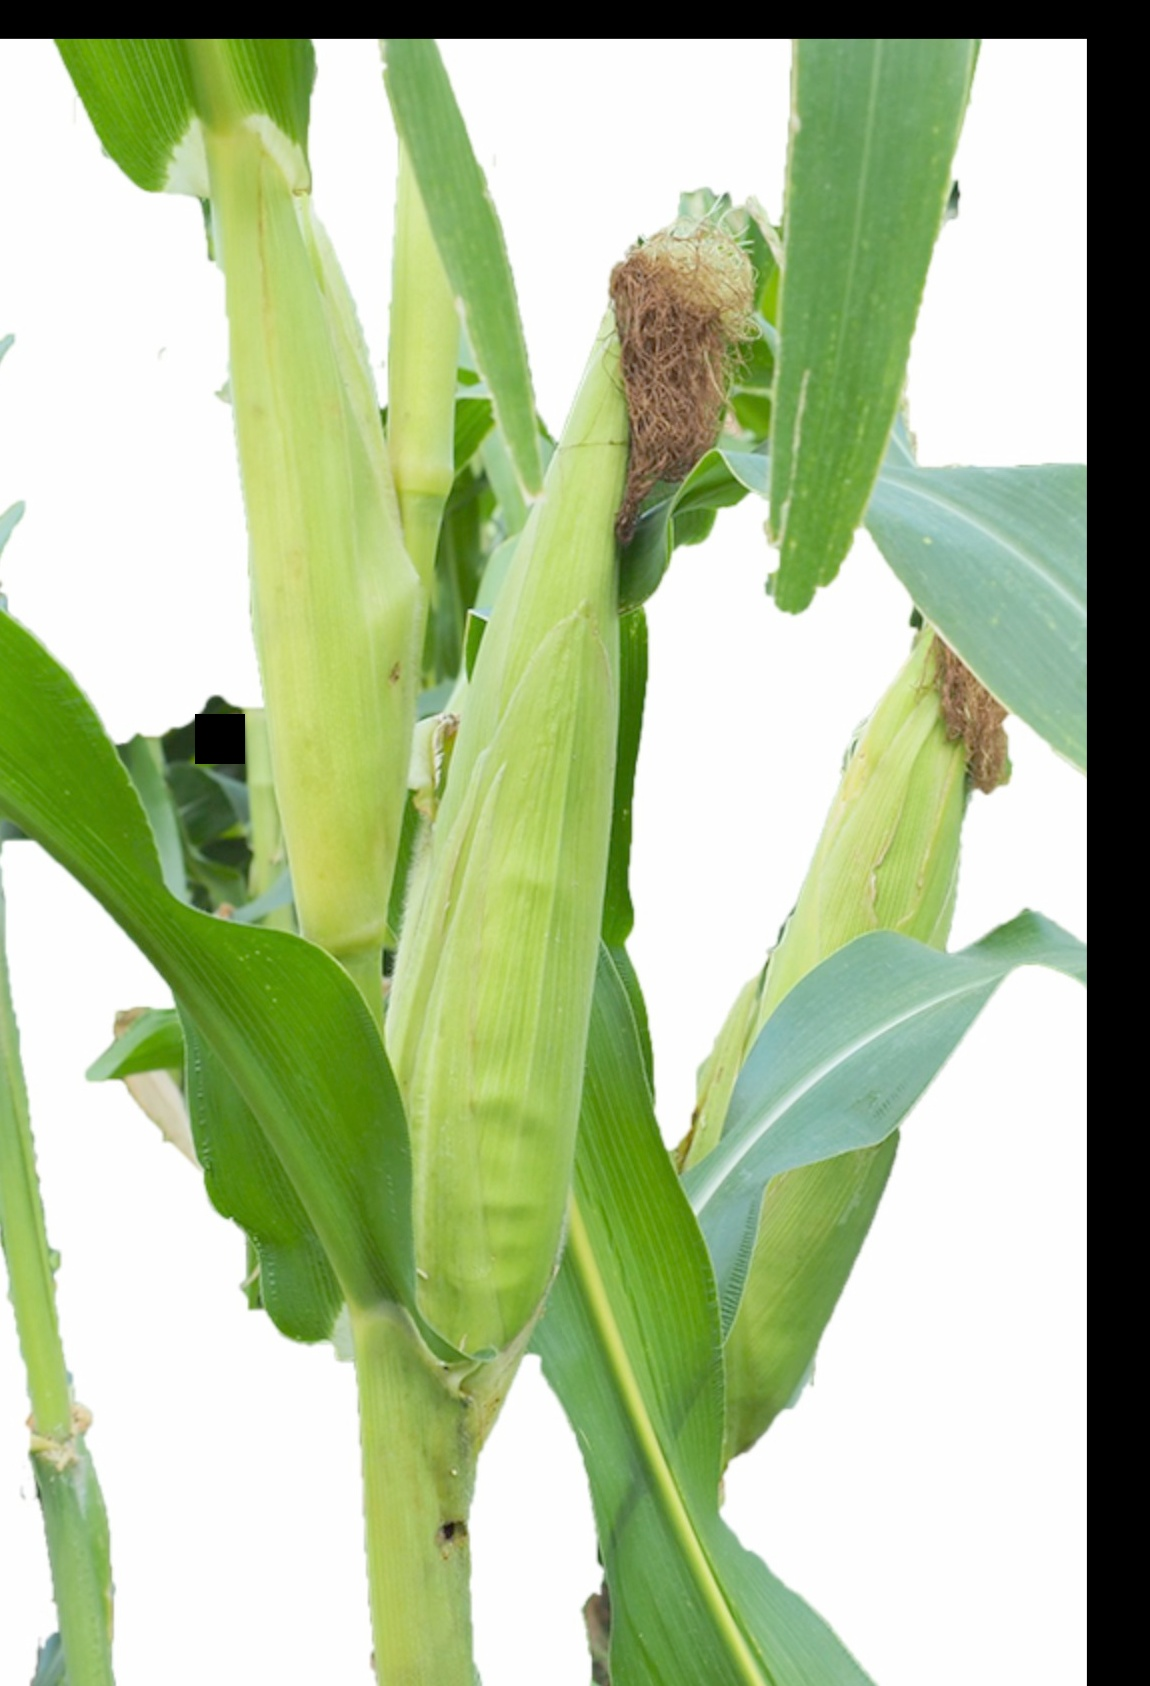corn_plant: (644, 495, 1076, 1530), (371, 196, 715, 1491), (156, 87, 412, 1329)
